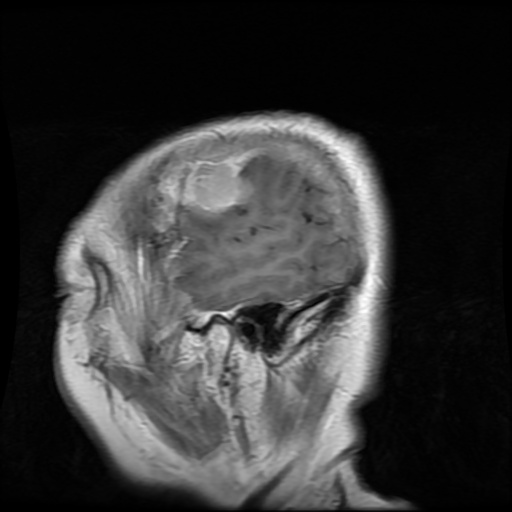meningioma: (187, 162, 241, 211)
